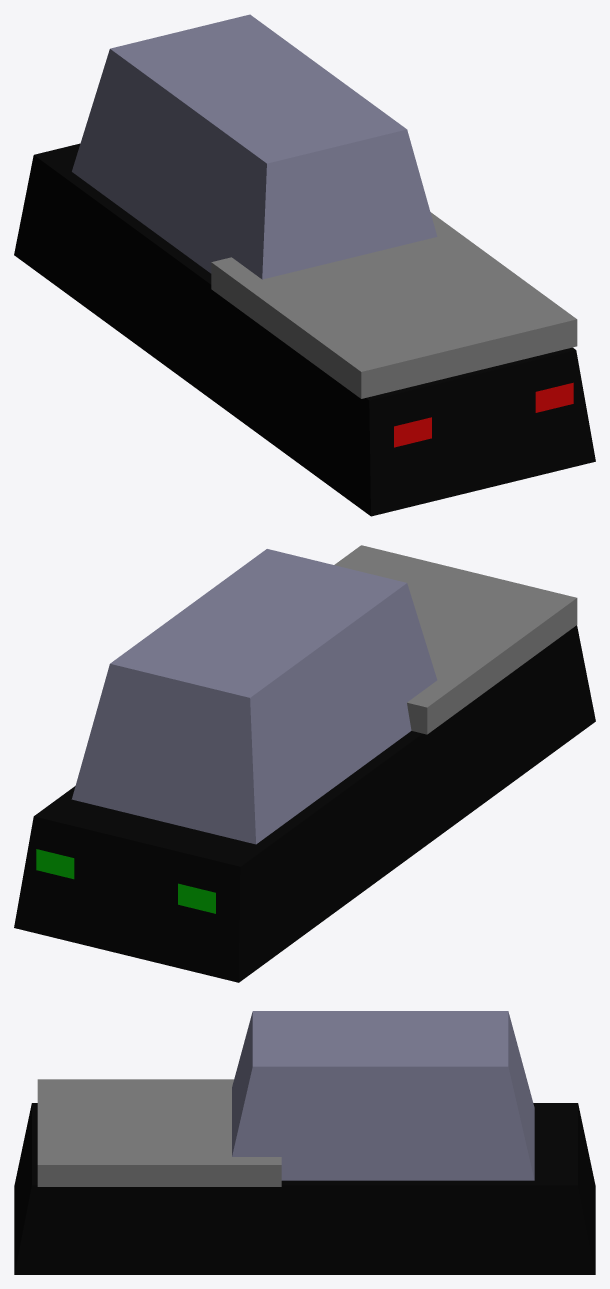
The model's file is veh_lcv_lod1.glb.
3 renders of one model, top to bottom at view 1: azimuth 30°, elevation 25°; view 2: azimuth 150°, elevation 25°; view 3: azimuth 270°, elevation 25°, orthographic. The views are drawn at different scales.
Parts seen in each view (by area): view 1: veh_lcv_lod1; view 2: veh_lcv_lod1; view 3: veh_lcv_lod1.
Part boxes in pixels (x1,y1,x2,y2): veh_lcv_lod1: (14,14,595,516); veh_lcv_lod1: (14,545,595,982); veh_lcv_lod1: (14,1011,595,1274).
Size of the model in its own units: 2 by 2 by 5.51.
